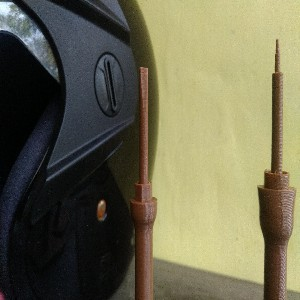obeng: (128, 65, 158, 300)
solder: (256, 37, 297, 300)
